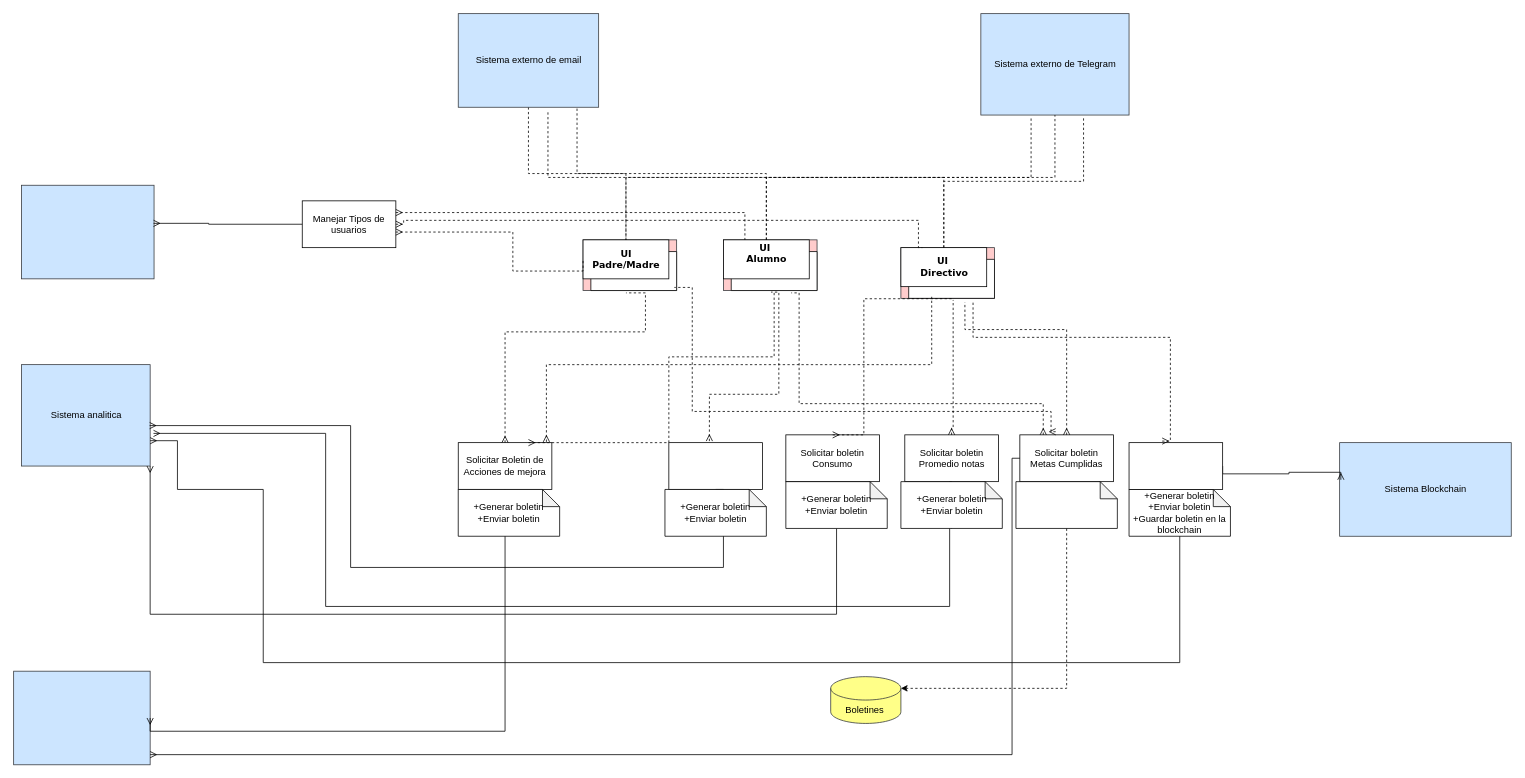
Some shapes in this 1525 by 778 pixel diagram are drawn without their labels. Each missing label, with the box of its shape:
+Generar boletin +Enviar boletin +Guardar boletín en bd: (1015, 481, 1117, 528)
Sistema Ahorro energetico: (13, 670, 150, 765)
Sistema Portal: (21, 184, 154, 279)
Solicitar boletin Alumno: (668, 442, 762, 489)
Solicitar boletin Anual: (1128, 442, 1223, 489)
